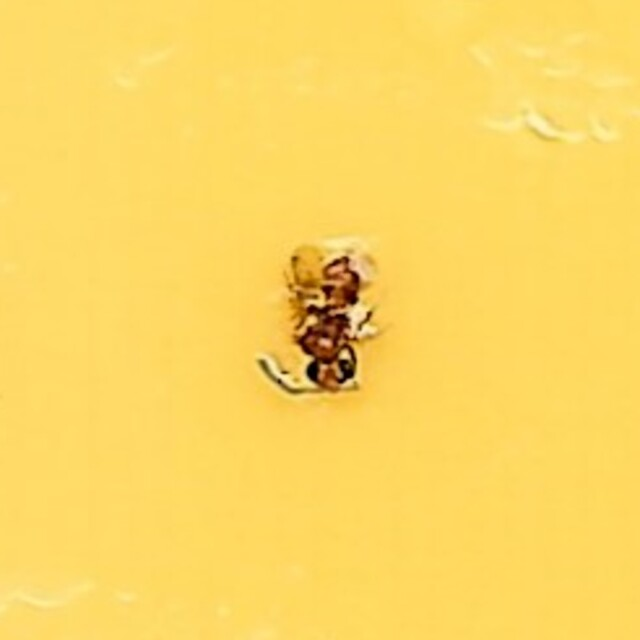Hymenoptera: (260, 240, 380, 400)
